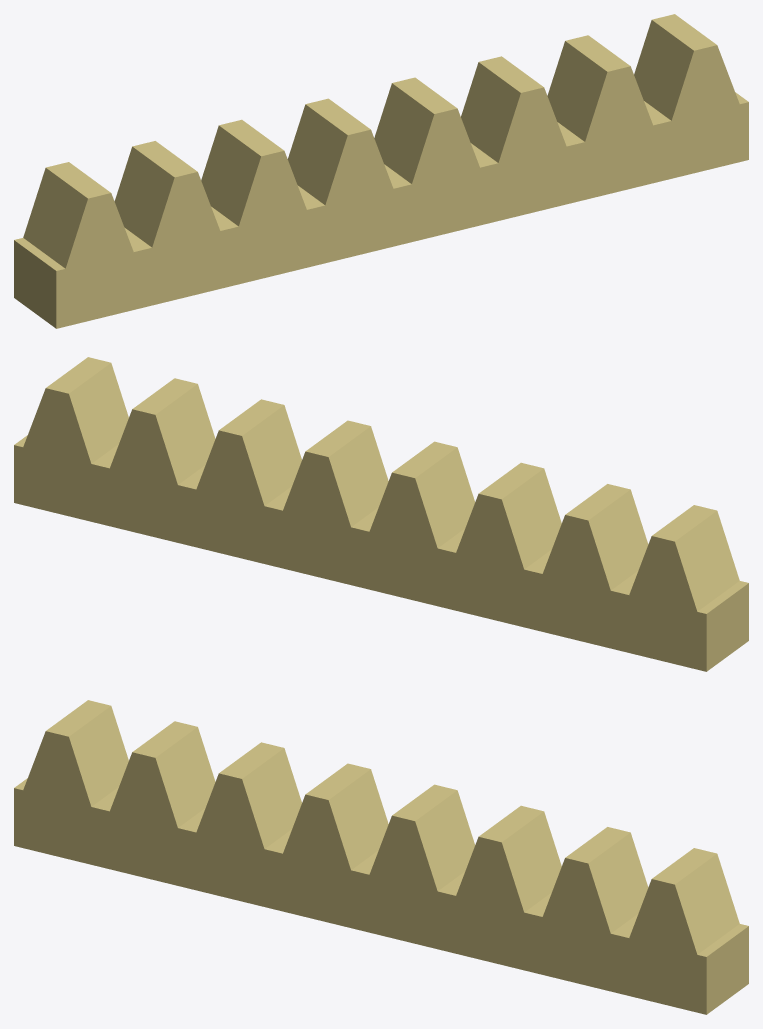
Rendered from rack_2d_demo.glb.
3 renders of one model, top to bottom at view 1: azimuth 30°, elevation 25°; view 2: azimuth 150°, elevation 25°; view 3: azimuth 330°, elevation 25°, orthographic.
Parts seen in each view (by area): view 1: eight_tooth_rack; view 2: eight_tooth_rack; view 3: eight_tooth_rack.
Part boxes in pixels (bbox=[...]): eight_tooth_rack: bbox=[14, 14, 748, 328]; eight_tooth_rack: bbox=[14, 357, 748, 671]; eight_tooth_rack: bbox=[14, 700, 748, 1014].
Size of the model in its own units: 37.7 by 6.38 by 4.
